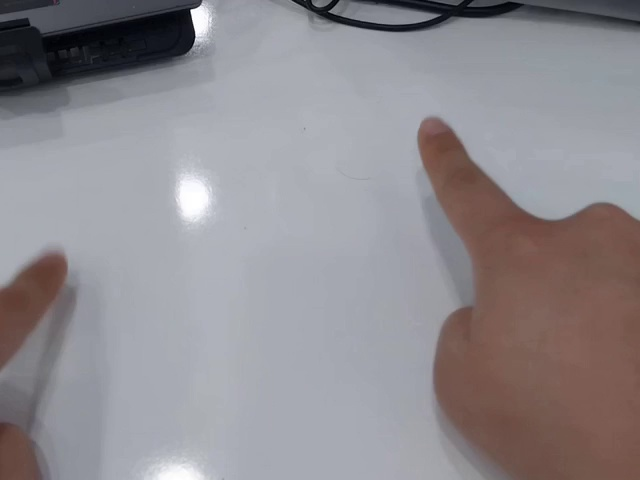fingers: (23, 252, 70, 302), (416, 115, 464, 162)
